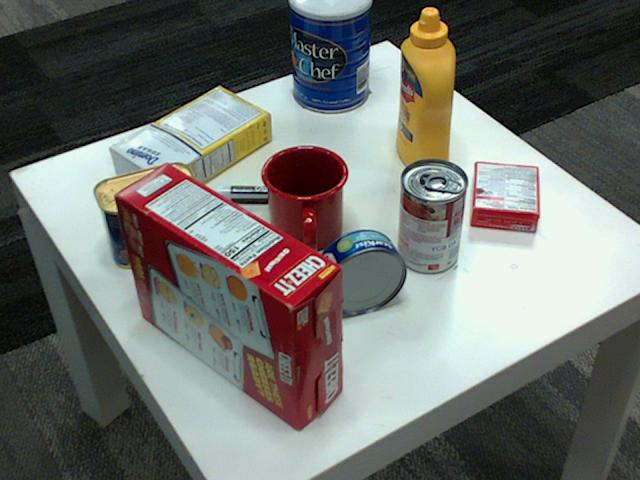cracker_box: (113, 162, 342, 427)
gelatin_box: (472, 161, 541, 231)
large_marker: (213, 186, 319, 204)
master_chef_can: (287, 0, 369, 112)
mug: (261, 142, 350, 251)
mustard_bottle: (395, 8, 454, 175)
potted_meat_can: (94, 162, 201, 269)
sugar_box: (110, 84, 272, 203)
tomato_soup_can: (397, 158, 466, 272)
tuna_fish_can: (317, 229, 407, 313)
